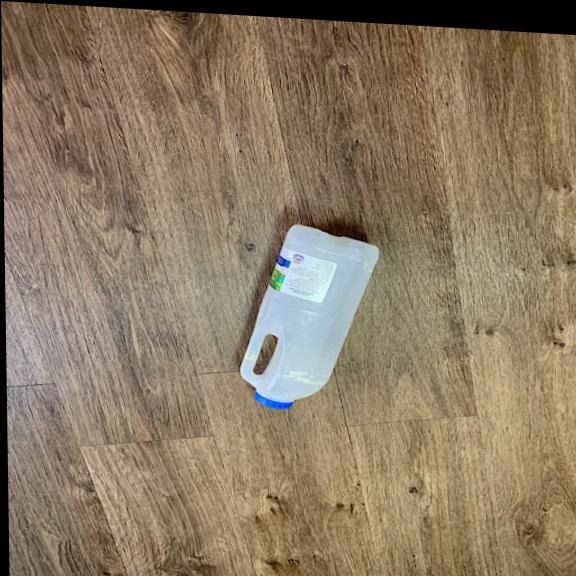Plastik: (233, 218, 384, 417)
